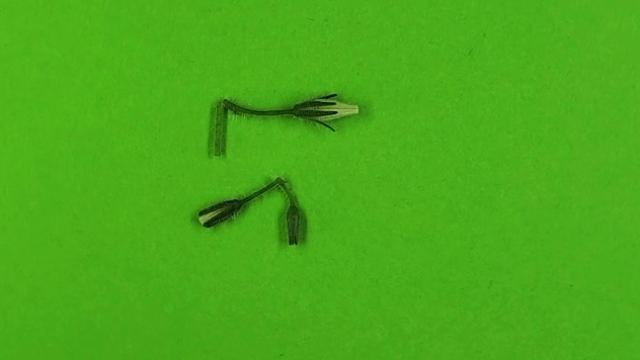Flower Bud: (295, 92, 361, 126), (197, 200, 241, 228), (286, 206, 300, 245)
